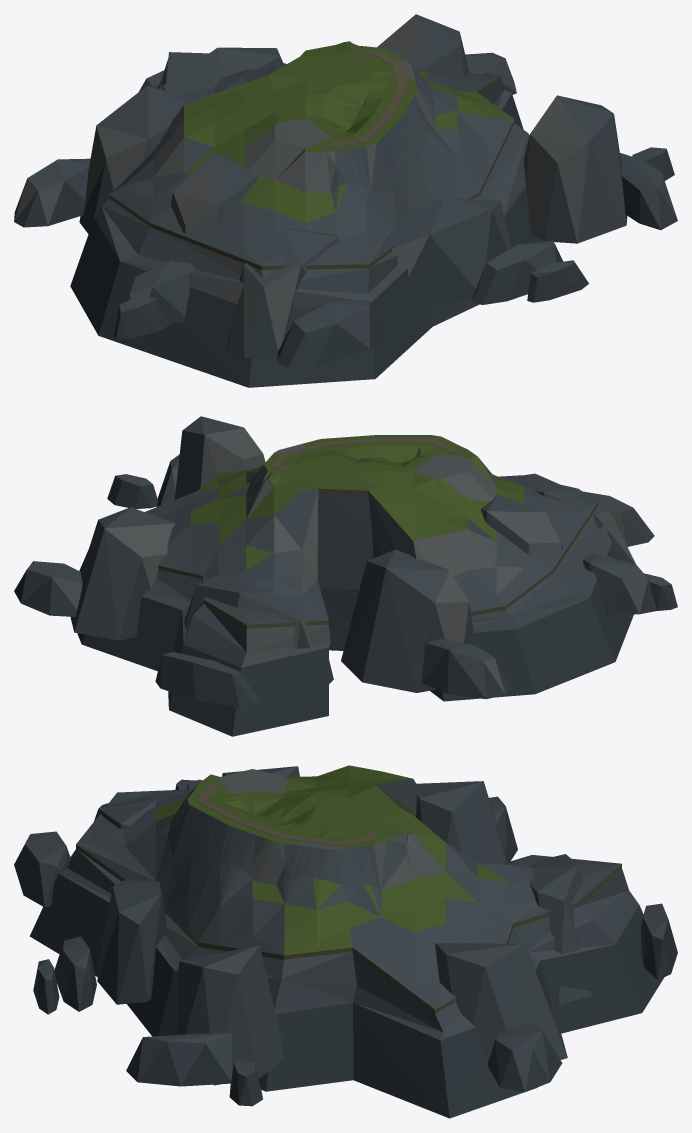
File: island_c.glb
3 views of the same model, one above another, from view 1: azimuth 30°, elevation 25°; view 2: azimuth 150°, elevation 25°; view 3: azimuth 270°, elevation 25° (orthographic). The views are drawn at different scales.
Visible parts, largest first — view 1: island_c_Coast blue grey bedrock, island_c_Coast short olive grass, island_c_Coast weathered stone footpath; view 2: island_c_Coast blue grey bedrock, island_c_Coast short olive grass, island_c_Coast weathered stone footpath; view 3: island_c_Coast blue grey bedrock, island_c_Coast short olive grass, island_c_Coast weathered stone footpath.
Boxes of the visible parts, x1,y1,x2,y2 form: island_c_Coast blue grey bedrock: [14, 14, 677, 387]; island_c_Coast short olive grass: [109, 41, 514, 270]; island_c_Coast weathered stone footpath: [322, 50, 407, 148]; island_c_Coast blue grey bedrock: [14, 416, 677, 736]; island_c_Coast short olive grass: [145, 435, 598, 628]; island_c_Coast weathered stone footpath: [272, 438, 460, 471]; island_c_Coast blue grey bedrock: [14, 766, 677, 1118]; island_c_Coast short olive grass: [76, 765, 621, 1013]; island_c_Coast weathered stone footpath: [197, 783, 378, 845].
Size of the model in its own units: 97.65 by 27.03 by 90.14.
